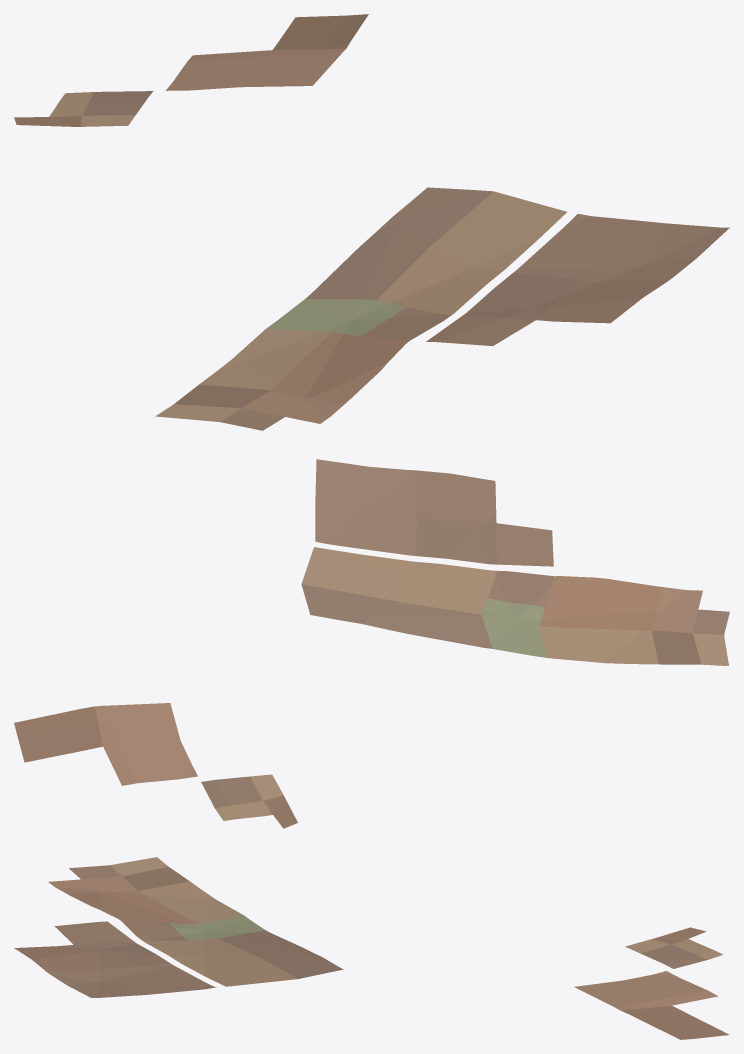
Rendered from farm_-8_5_soil.glb.
3 renders of one model, top to bottom at view 1: azimuth 30°, elevation 25°; view 2: azimuth 150°, elevation 25°; view 3: azimuth 270°, elevation 25°, orthographic. The views are drawn at different scales.
Parts seen in each view (by area): view 1: geometry_0; view 2: geometry_0; view 3: geometry_0.
Part boxes in pixels (box(x1,y1,x2,y2)): geometry_0: box(14, 14, 729, 430); geometry_0: box(14, 459, 729, 828); geometry_0: box(14, 857, 729, 1039).
Size of the model in its own units: 379 by 59.44 by 539.
